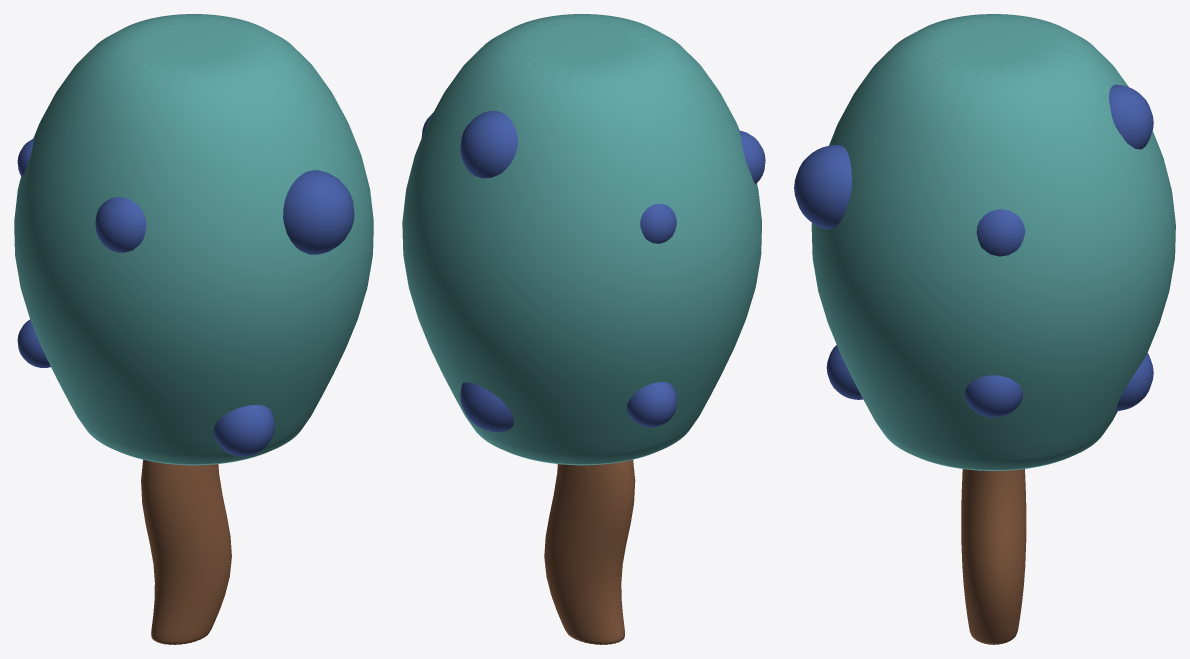
The model's file is snowplant1.fbx.
The picture shows the model from 3 angles, left to right: view 1: azimuth 30°, elevation 25°; view 2: azimuth 150°, elevation 25°; view 3: azimuth 270°, elevation 25°; orthographic projection.
Visible parts, largest first — view 1: Circle.001, Circle, Sphere.008, Sphere.007, Sphere.002, Sphere.004; view 2: Circle.001, Circle, Sphere.005, Sphere.006, Sphere.004, Sphere.003, Sphere.002; view 3: Circle.001, Circle, Sphere.008, Sphere.005, Sphere, Sphere.001, Sphere.006, Sphere.007.
Part boxes in pixels (box(x1,y1,x2,y2)): Circle.001: box(14, 14, 373, 465); Circle: box(141, 459, 231, 644); Sphere.008: box(283, 170, 354, 254); Sphere.007: box(213, 405, 274, 456); Sphere.002: box(95, 197, 146, 252); Sphere.004: box(17, 319, 50, 367); Circle.001: box(402, 14, 761, 465); Circle: box(544, 459, 635, 644); Sphere.005: box(460, 111, 517, 178); Sphere.006: box(460, 382, 513, 432); Sphere.004: box(626, 382, 677, 427); Sphere.003: box(640, 203, 676, 243); Sphere.002: box(739, 130, 765, 183); Circle.001: box(811, 14, 1175, 470); Circle: box(961, 469, 1026, 644); Sphere.008: box(794, 144, 851, 229); Sphere.005: box(1109, 84, 1153, 149); Sphere: box(964, 375, 1022, 417); Sphere.001: box(976, 209, 1025, 256); Sphere.006: box(1116, 353, 1153, 410); Sphere.007: box(826, 345, 863, 399).
Bounding box in the file's own units: 1134 × 2050 × 1188.
